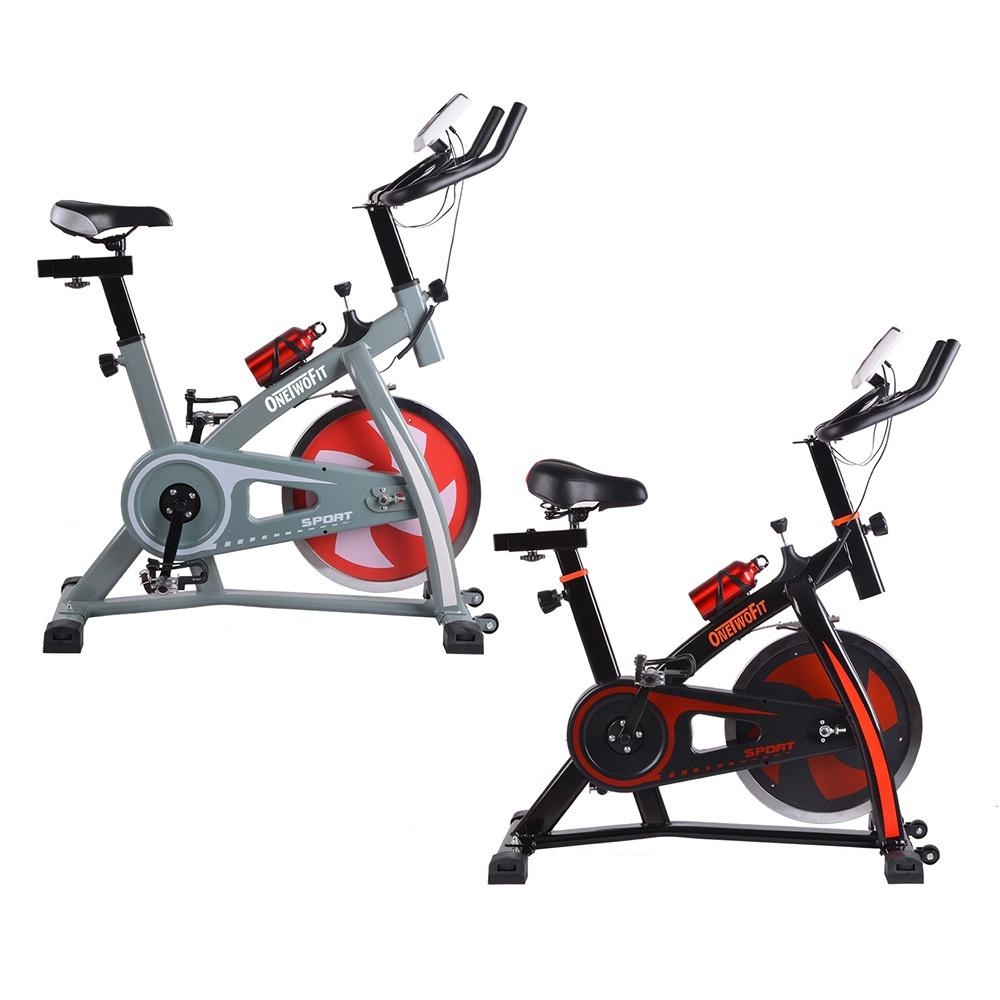gym_bike: (26, 79, 534, 670), (481, 323, 947, 887)
